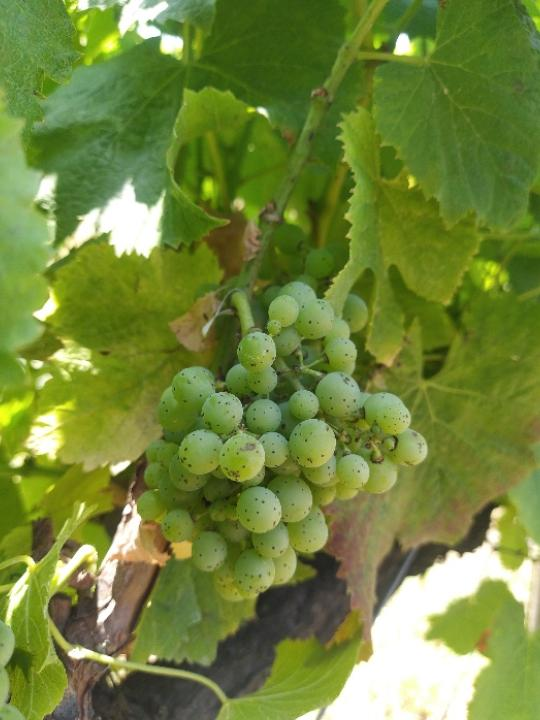grape: (136, 280, 430, 606)
